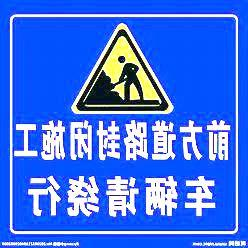sign: (5, 7, 243, 240)
